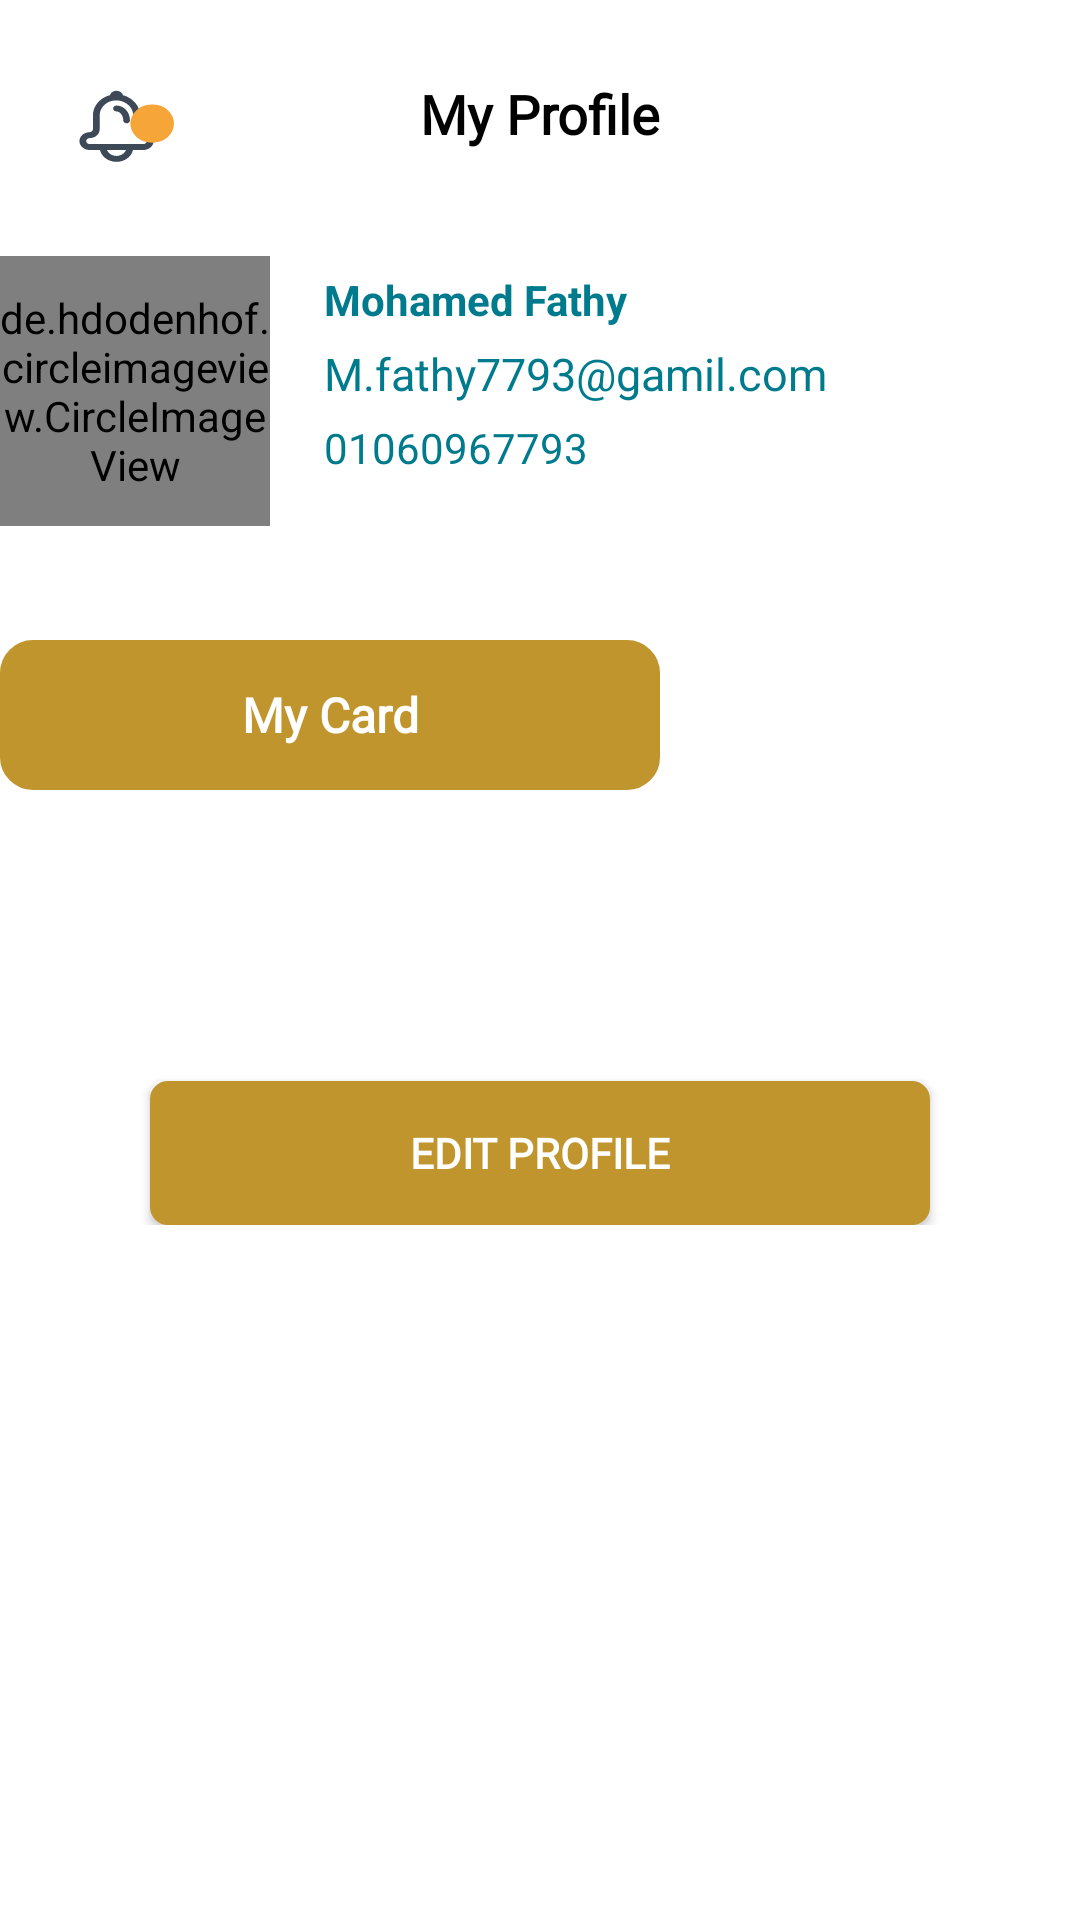

Named icons in this screenshot (1080*1920) and their centers, [x,y]:
notifications: [126,126]
